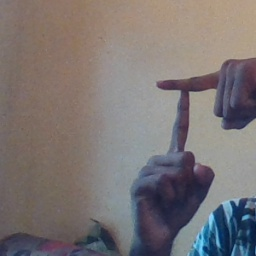T: (123, 54, 245, 182)
